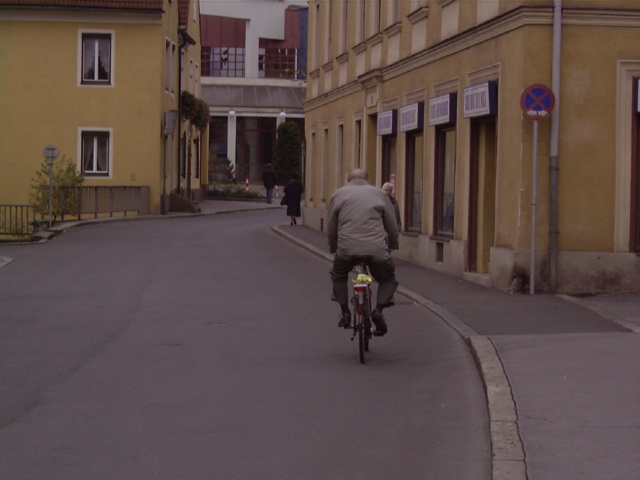person: (326, 167, 398, 343)
